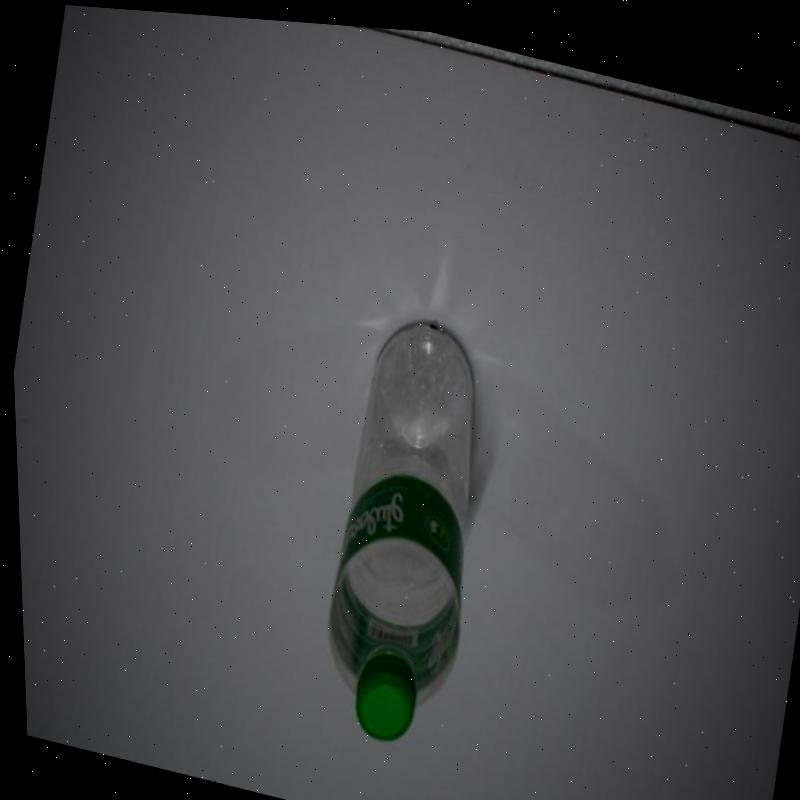botella: (297, 296, 509, 753)
